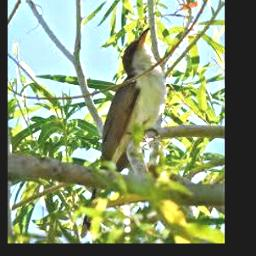Cuckoo: (80, 27, 166, 239)
